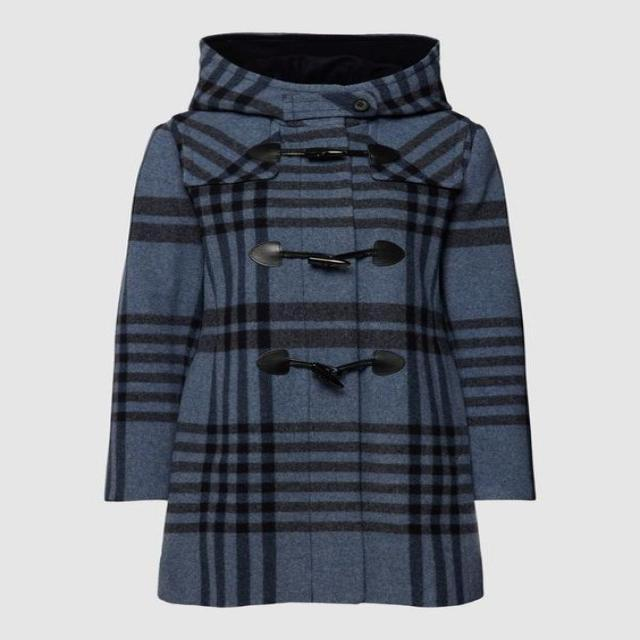coat: (103, 30, 540, 610)
